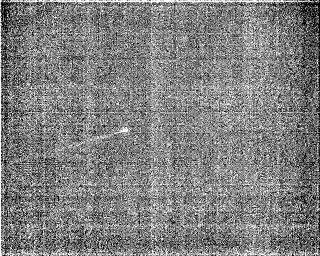AIRPLANE: (52, 126, 132, 155)
